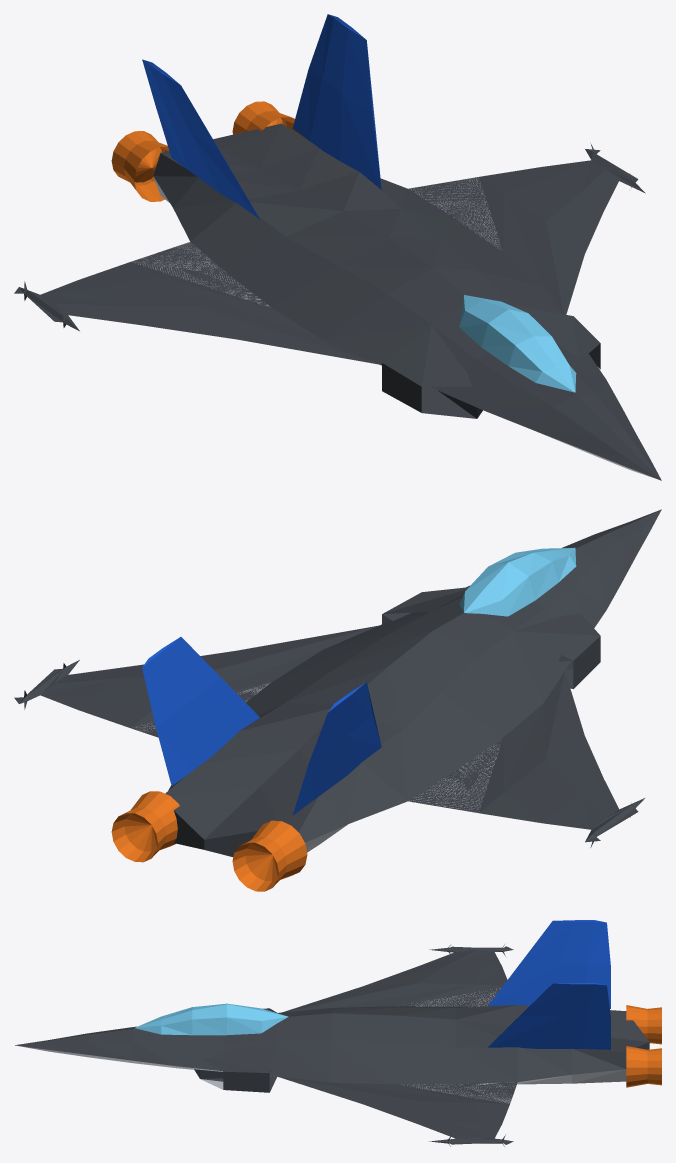
The model's file is fighter_jet_textured.obj.
The picture shows the model from 3 angles, top to bottom: view 1: azimuth 30°, elevation 25°; view 2: azimuth 150°, elevation 25°; view 3: azimuth 270°, elevation 25°; orthographic projection. The views are drawn at different scales.
Parts seen in each view (by area): view 1: fuselage, wings, tail_fins, canopy, engines, underside; view 2: fuselage, wings, tail_fins, engines, canopy, underside; view 3: fuselage, wings, tail_fins, canopy, engines, underside.
Part boxes in pixels (bbox=[...]): fuselage: bbox=[153, 123, 661, 480]; wings: bbox=[14, 143, 645, 364]; tail_fins: bbox=[142, 14, 381, 219]; canopy: bbox=[459, 295, 576, 392]; engines: bbox=[111, 101, 304, 201]; underside: bbox=[132, 177, 658, 479]; fuselage: bbox=[165, 509, 661, 856]; wings: bbox=[14, 625, 644, 847]; tail_fins: bbox=[142, 637, 381, 815]; engines: bbox=[111, 791, 307, 891]; canopy: bbox=[459, 547, 576, 616]; underside: bbox=[134, 683, 571, 852]; fuselage: bbox=[15, 1005, 649, 1092]; wings: bbox=[279, 944, 517, 1146]; tail_fins: bbox=[488, 920, 610, 1049]; canopy: bbox=[134, 1003, 288, 1035]; engines: bbox=[626, 1005, 661, 1087]; underside: bbox=[17, 988, 626, 1103].
Size of the model in its own units: 12.14 by 3.32 by 16.72.
5 materials, 5 textured.
